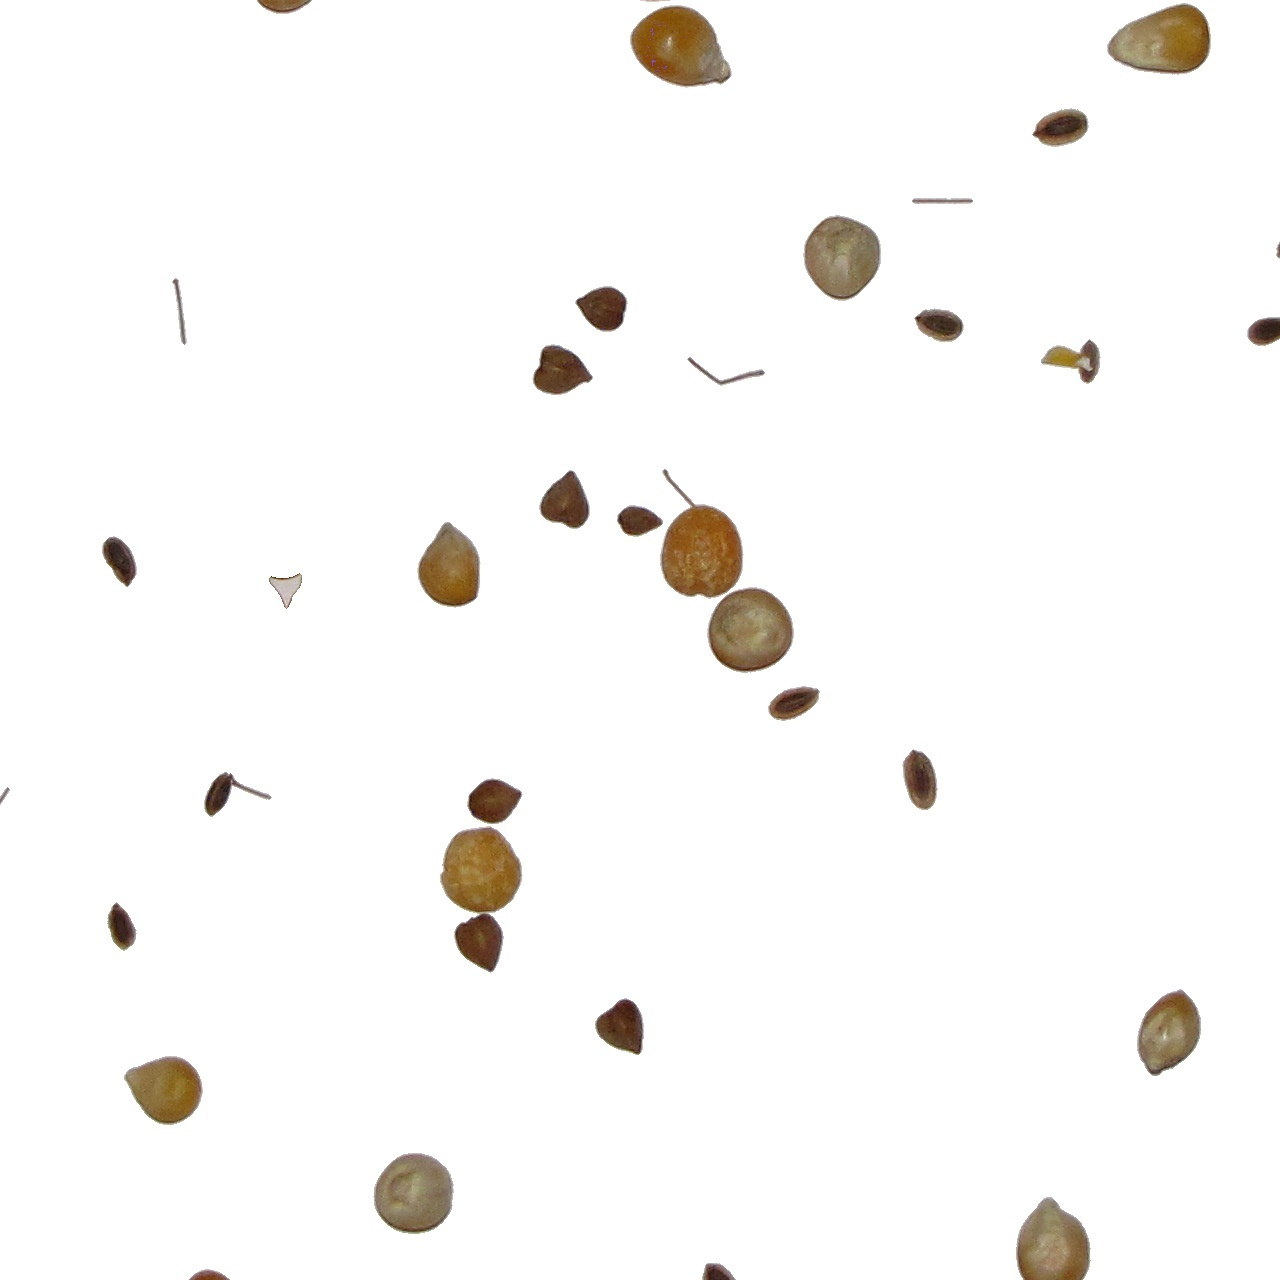buckwheat: (452, 911, 505, 974), (531, 343, 594, 396), (538, 469, 591, 530), (594, 994, 645, 1053), (467, 777, 524, 825), (574, 285, 629, 333), (101, 535, 138, 588), (105, 904, 138, 955), (268, 572, 302, 610), (171, 277, 188, 346), (701, 1262, 741, 1280)
dill: (203, 771, 273, 818), (911, 197, 974, 205)
mais: (629, 4, 733, 89), (659, 502, 745, 600), (706, 586, 795, 674), (1107, 2, 1212, 76), (440, 825, 524, 915), (802, 215, 881, 302), (372, 1152, 455, 1235), (1015, 1196, 1092, 1280), (1136, 988, 1201, 1077), (416, 520, 482, 610), (123, 1055, 204, 1126), (176, 1268, 243, 1280)
other: (1040, 338, 1102, 384), (686, 356, 765, 387), (1032, 107, 1090, 148), (901, 748, 939, 811), (767, 685, 821, 722), (611, 504, 663, 542), (915, 307, 968, 343), (1246, 316, 1280, 347), (1275, 215, 1280, 260)
